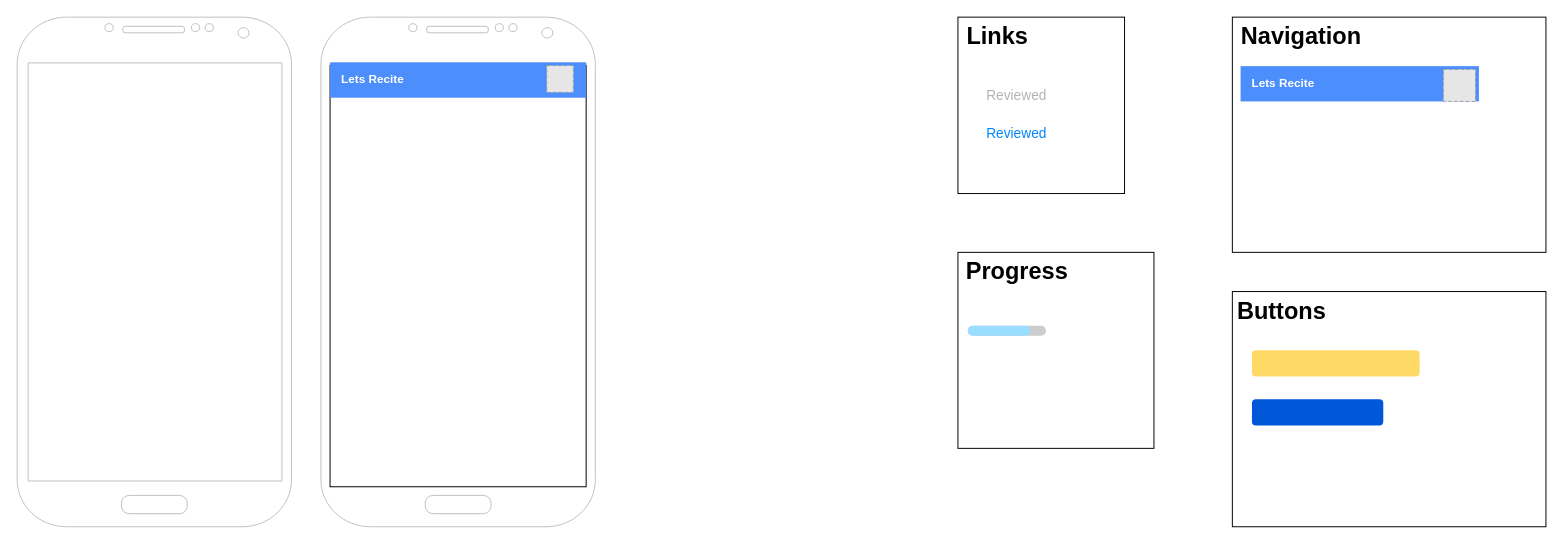
The diagram is 1563 pixels wide and 544 high, and some of its shapes have lost their labels. Grey dashed boxes stand in for pictures. The shapes that lost their labels are listed below. From the top down, each one's centre as x and y in pixels, then its label:
At (x=1335, y=363): "MARK AS UNREVIEWED".
At (x=1317, y=412): "MARK AS REVIEWED".
